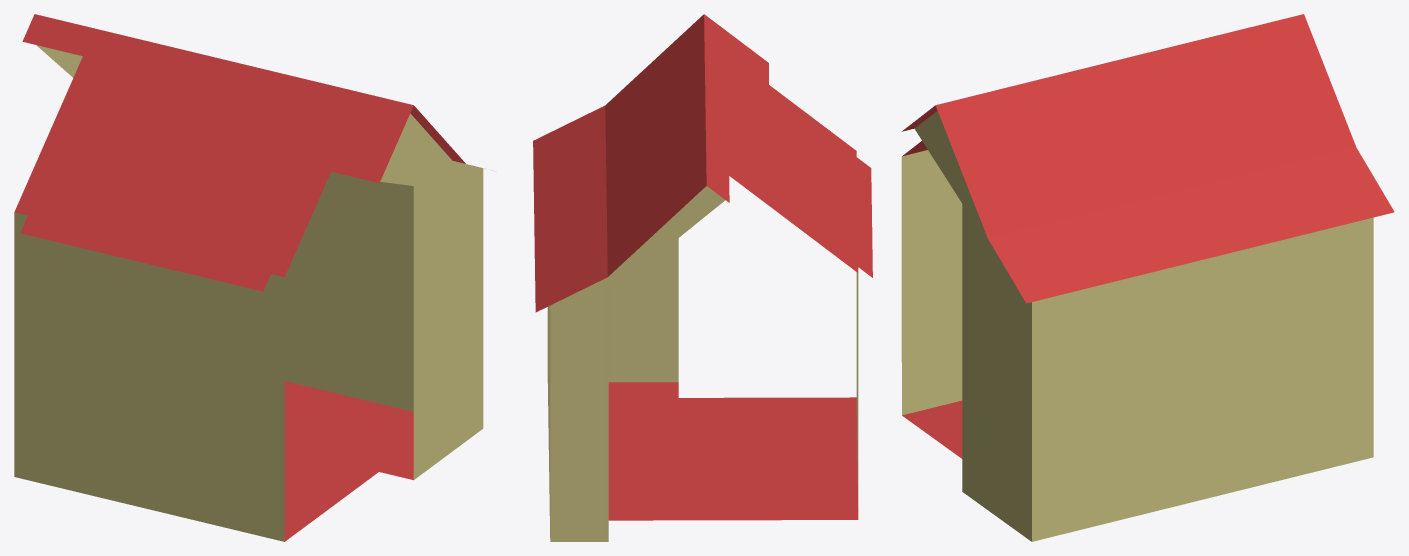
3 views of the same model, side by side, from view 1: azimuth 30°, elevation 25°; view 2: azimuth 150°, elevation 25°; view 3: azimuth 270°, elevation 25° (orthographic). The views are drawn at different scales.
Bounding box in the file's own units: 15.57 × 16.02 × 13.62.
